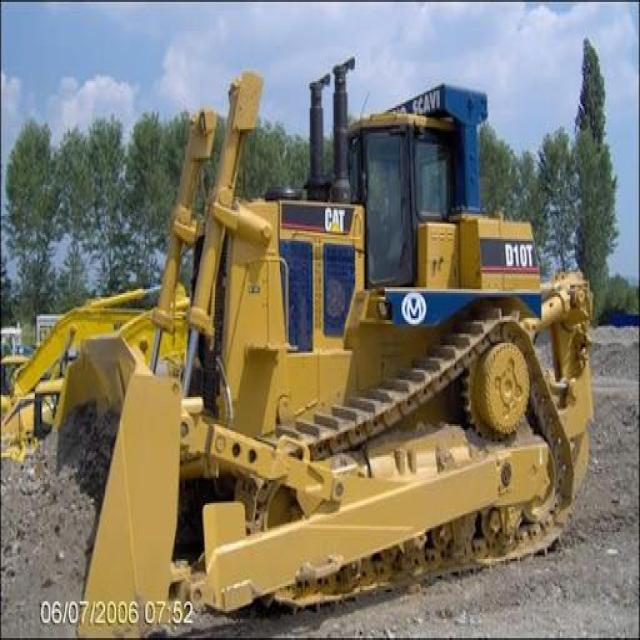buldozerpayloadergrader: (39, 39, 606, 602)
